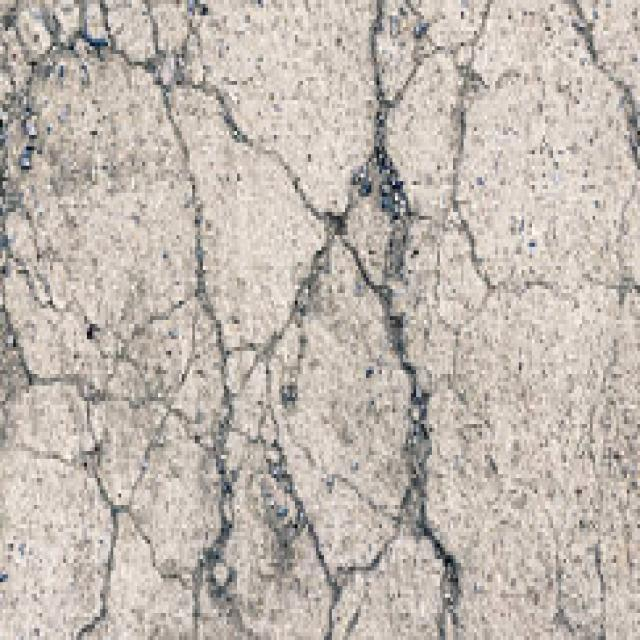network cracks: (1, 0, 497, 639), (563, 0, 639, 177)
